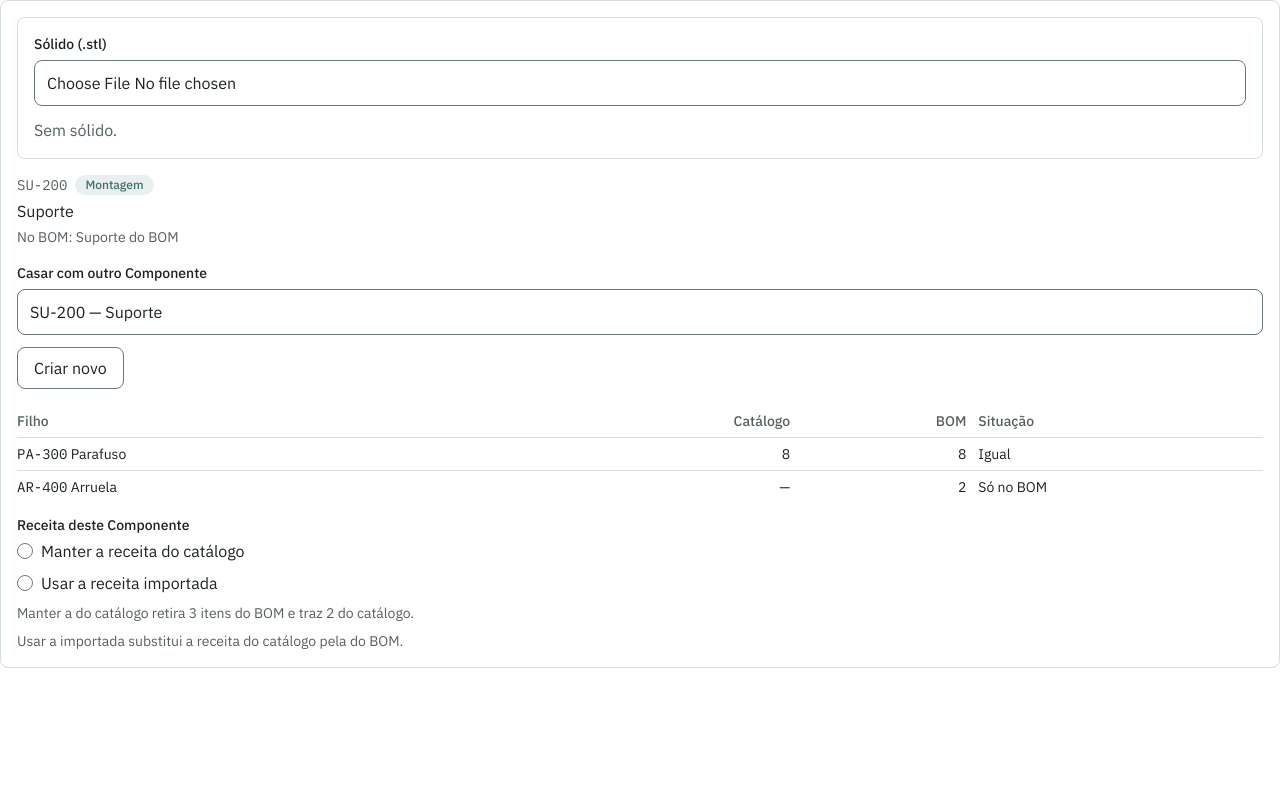
Test case: PainelDoComponenteDaImportacao › recusa local do casamento › some na próxima ação: escolher a receita
Focus the dropdown labelled "Casar com outro Componente" at point(640, 312), box 17,289 -> 1263,335
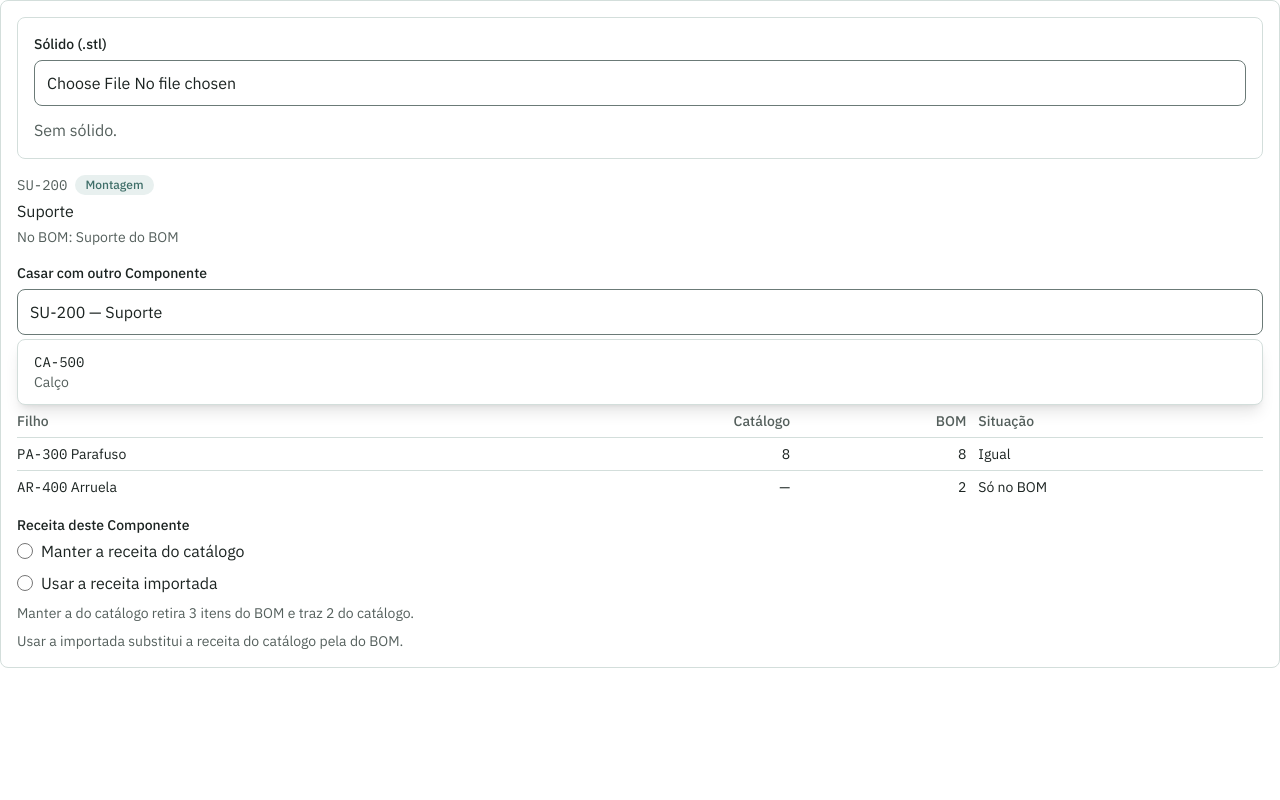
Click the option "CA-500 Calço".
click(59, 372)  # box 34,353 -> 84,391
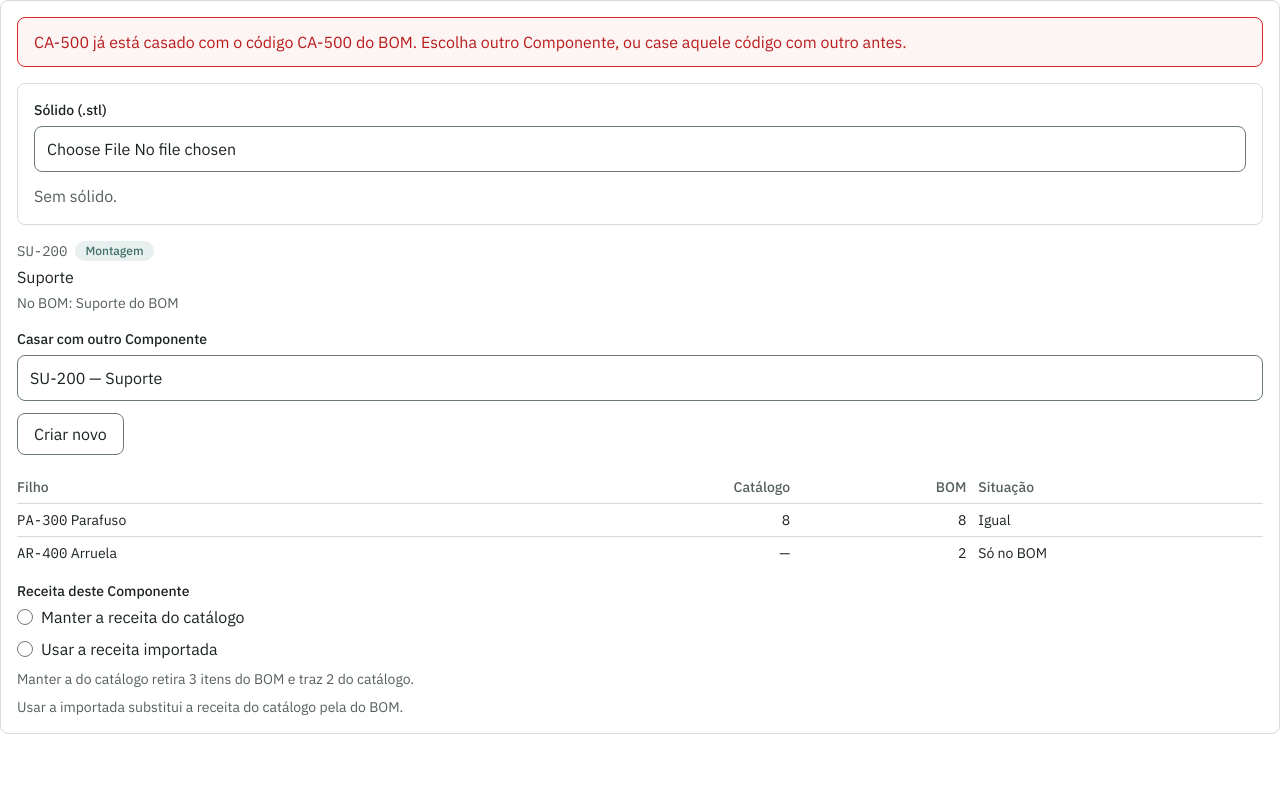
Click the radio button labelled "Usar a receita importada".
click(25, 649)  # box 17,641 -> 33,657
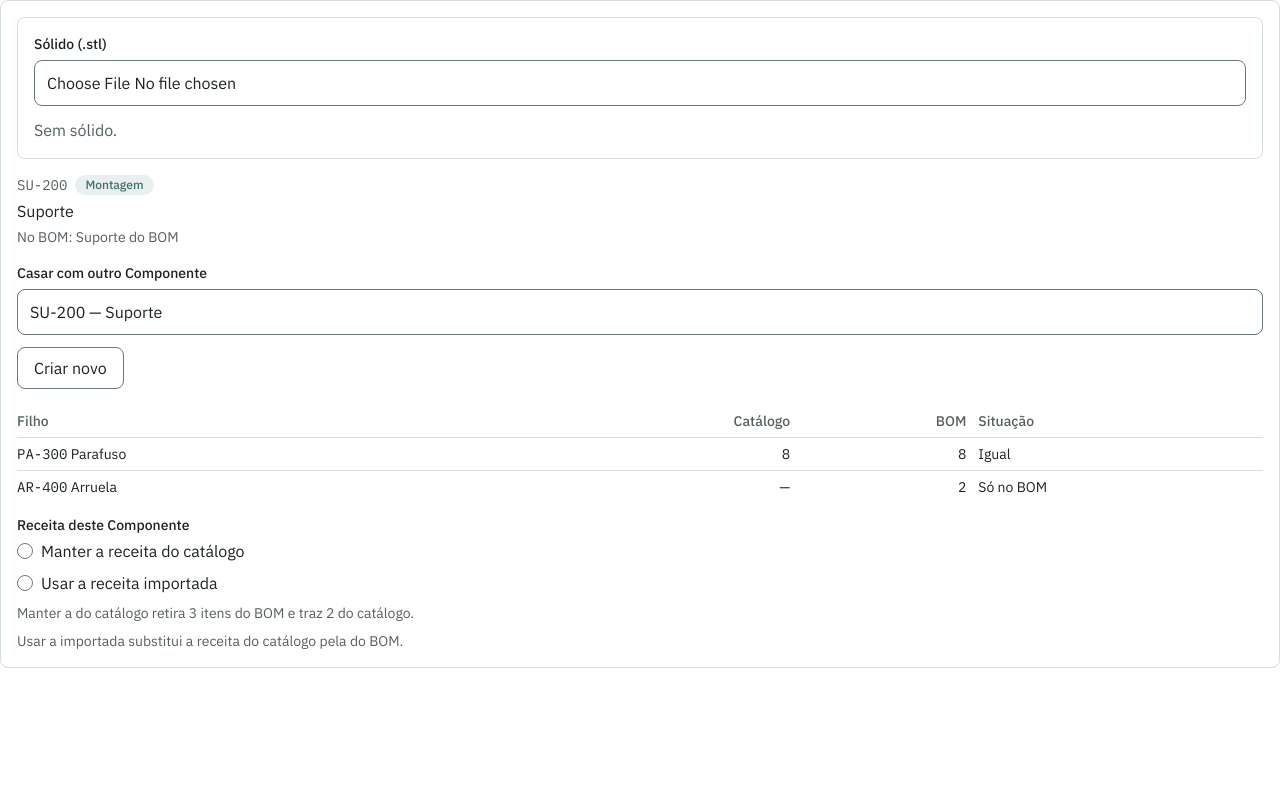
Expected: the message is gone
